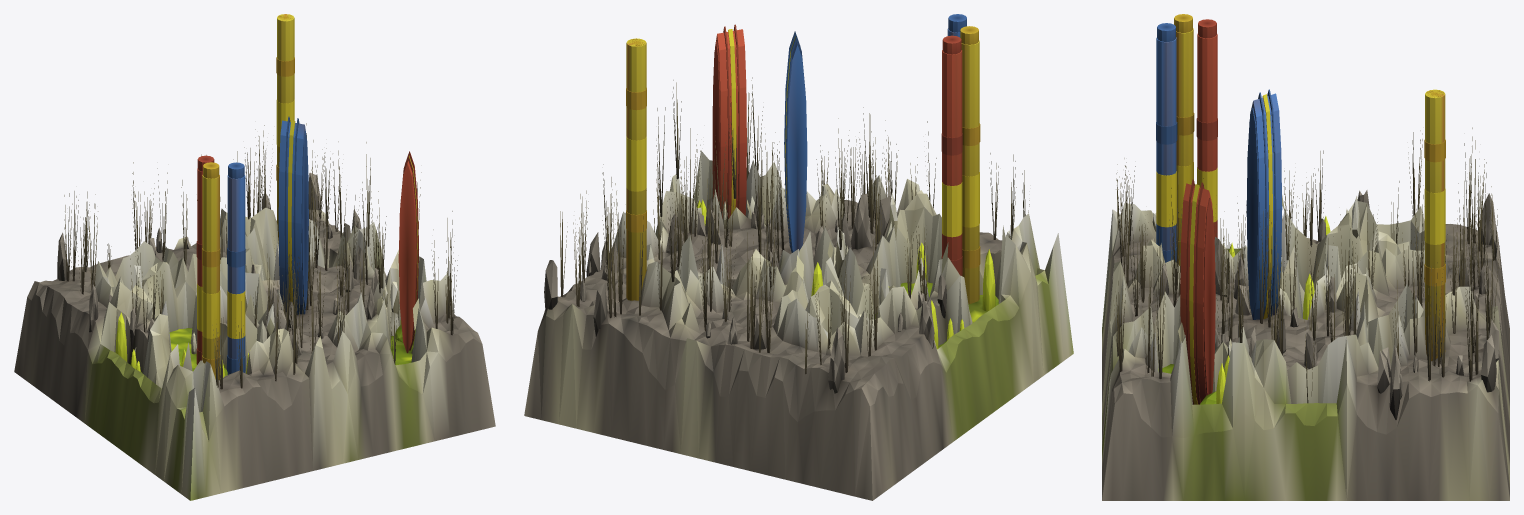
Rendered from sludge-field.glb.
3 renders of one model, left to right at view 1: azimuth 30°, elevation 25°; view 2: azimuth 150°, elevation 25°; view 3: azimuth 270°, elevation 25°, orthographic. The views are drawn at different scales.
Parts seen in each view (by area): view 1: sludge-field; view 2: sludge-field; view 3: sludge-field.
Part boxes in pixels (x1,y1,x2,y2): sludge-field: [14, 14, 495, 500]; sludge-field: [524, 14, 1073, 500]; sludge-field: [1102, 14, 1509, 500].
Bounding box in the file's own units: 1 × 1 × 1.
